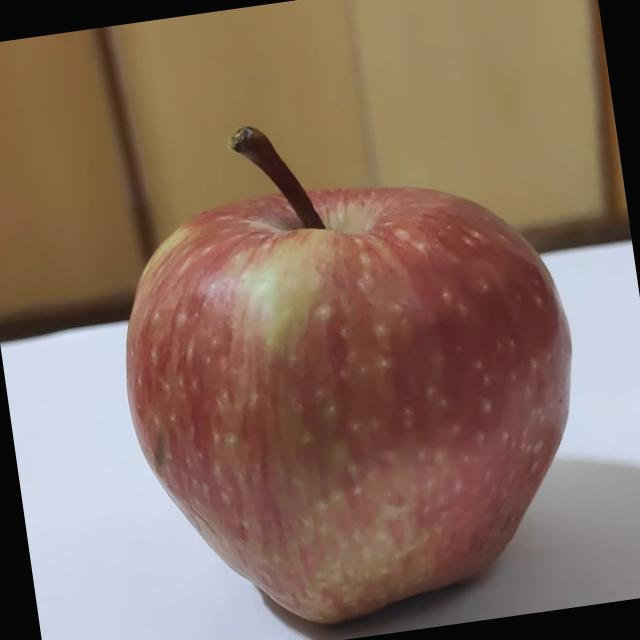apple: (88, 87, 607, 640)
